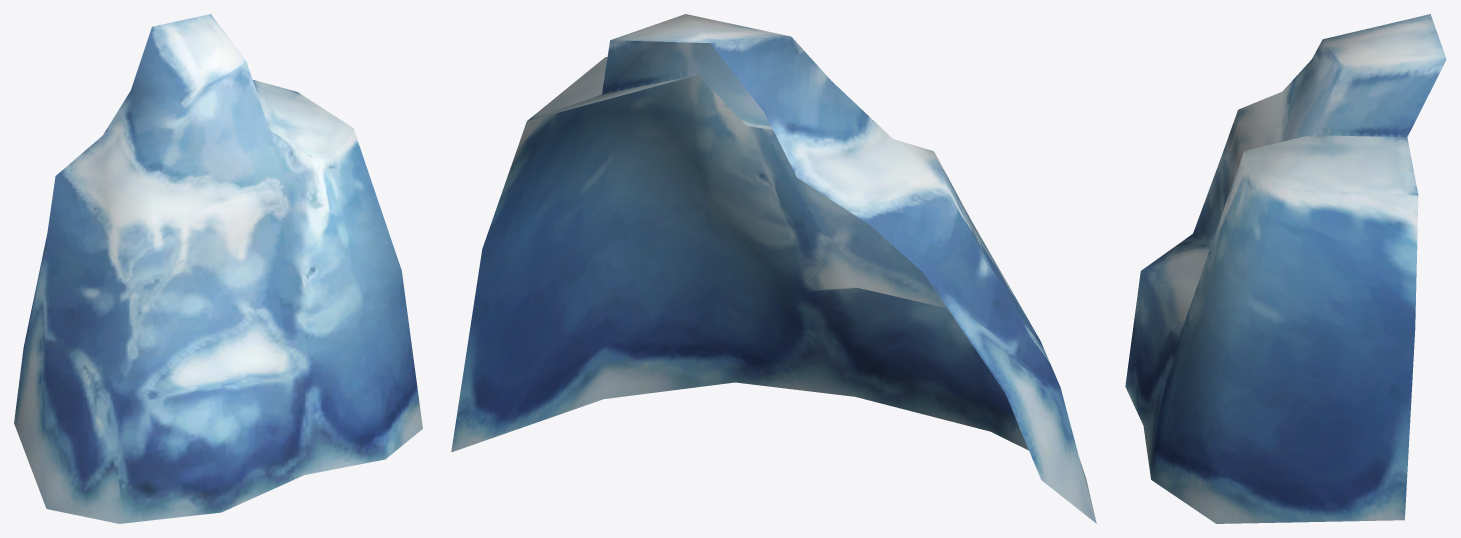
File: SM_stoneE_05.fbx
3 renders of one model, left to right at view 1: azimuth 30°, elevation 25°; view 2: azimuth 150°, elevation 25°; view 3: azimuth 270°, elevation 25°, orthographic. The views are drawn at different scales.
Visible parts, largest first — view 1: SM_stoneE_05; view 2: SM_stoneE_05; view 3: SM_stoneE_05.
Boxes of the visible parts, x1=… form: SM_stoneE_05: x1=14, y1=14, x2=422, y2=523; SM_stoneE_05: x1=451, y1=14, x2=1096, y2=523; SM_stoneE_05: x1=1125, y1=14, x2=1446, y2=523.
Bounding box in the file's own units: 4.18 × 3.78 × 2.65.
